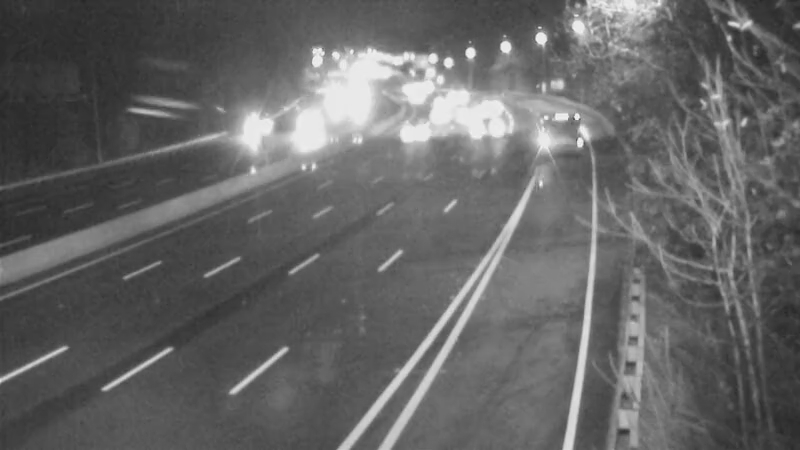vehicle: (390, 74, 440, 124), (430, 70, 480, 120), (418, 77, 468, 127), (466, 81, 516, 131), (417, 90, 467, 140), (439, 96, 489, 146), (536, 104, 586, 154), (460, 104, 510, 154), (387, 109, 437, 159), (230, 107, 280, 157), (285, 96, 335, 146)
